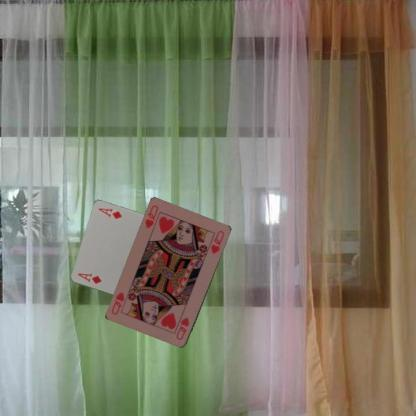Ad: (75, 271, 103, 285)
Qh: (142, 203, 160, 230), (174, 314, 191, 342)
